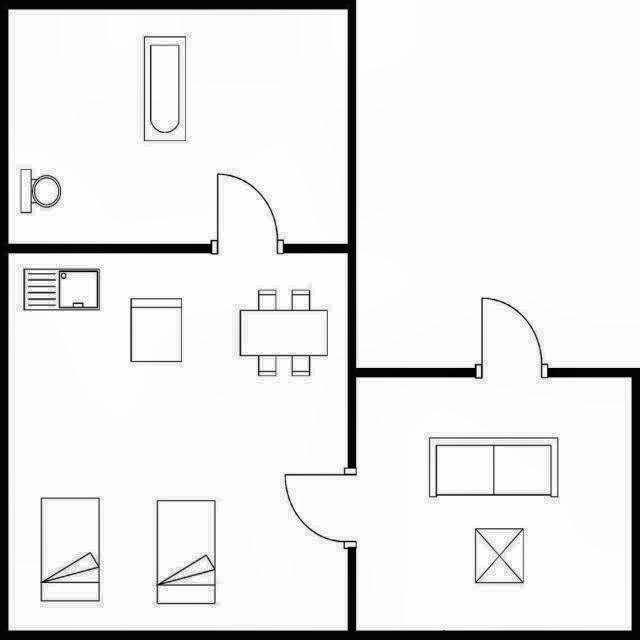room: (8, 254, 348, 630), (8, 9, 348, 244), (355, 377, 632, 631)
